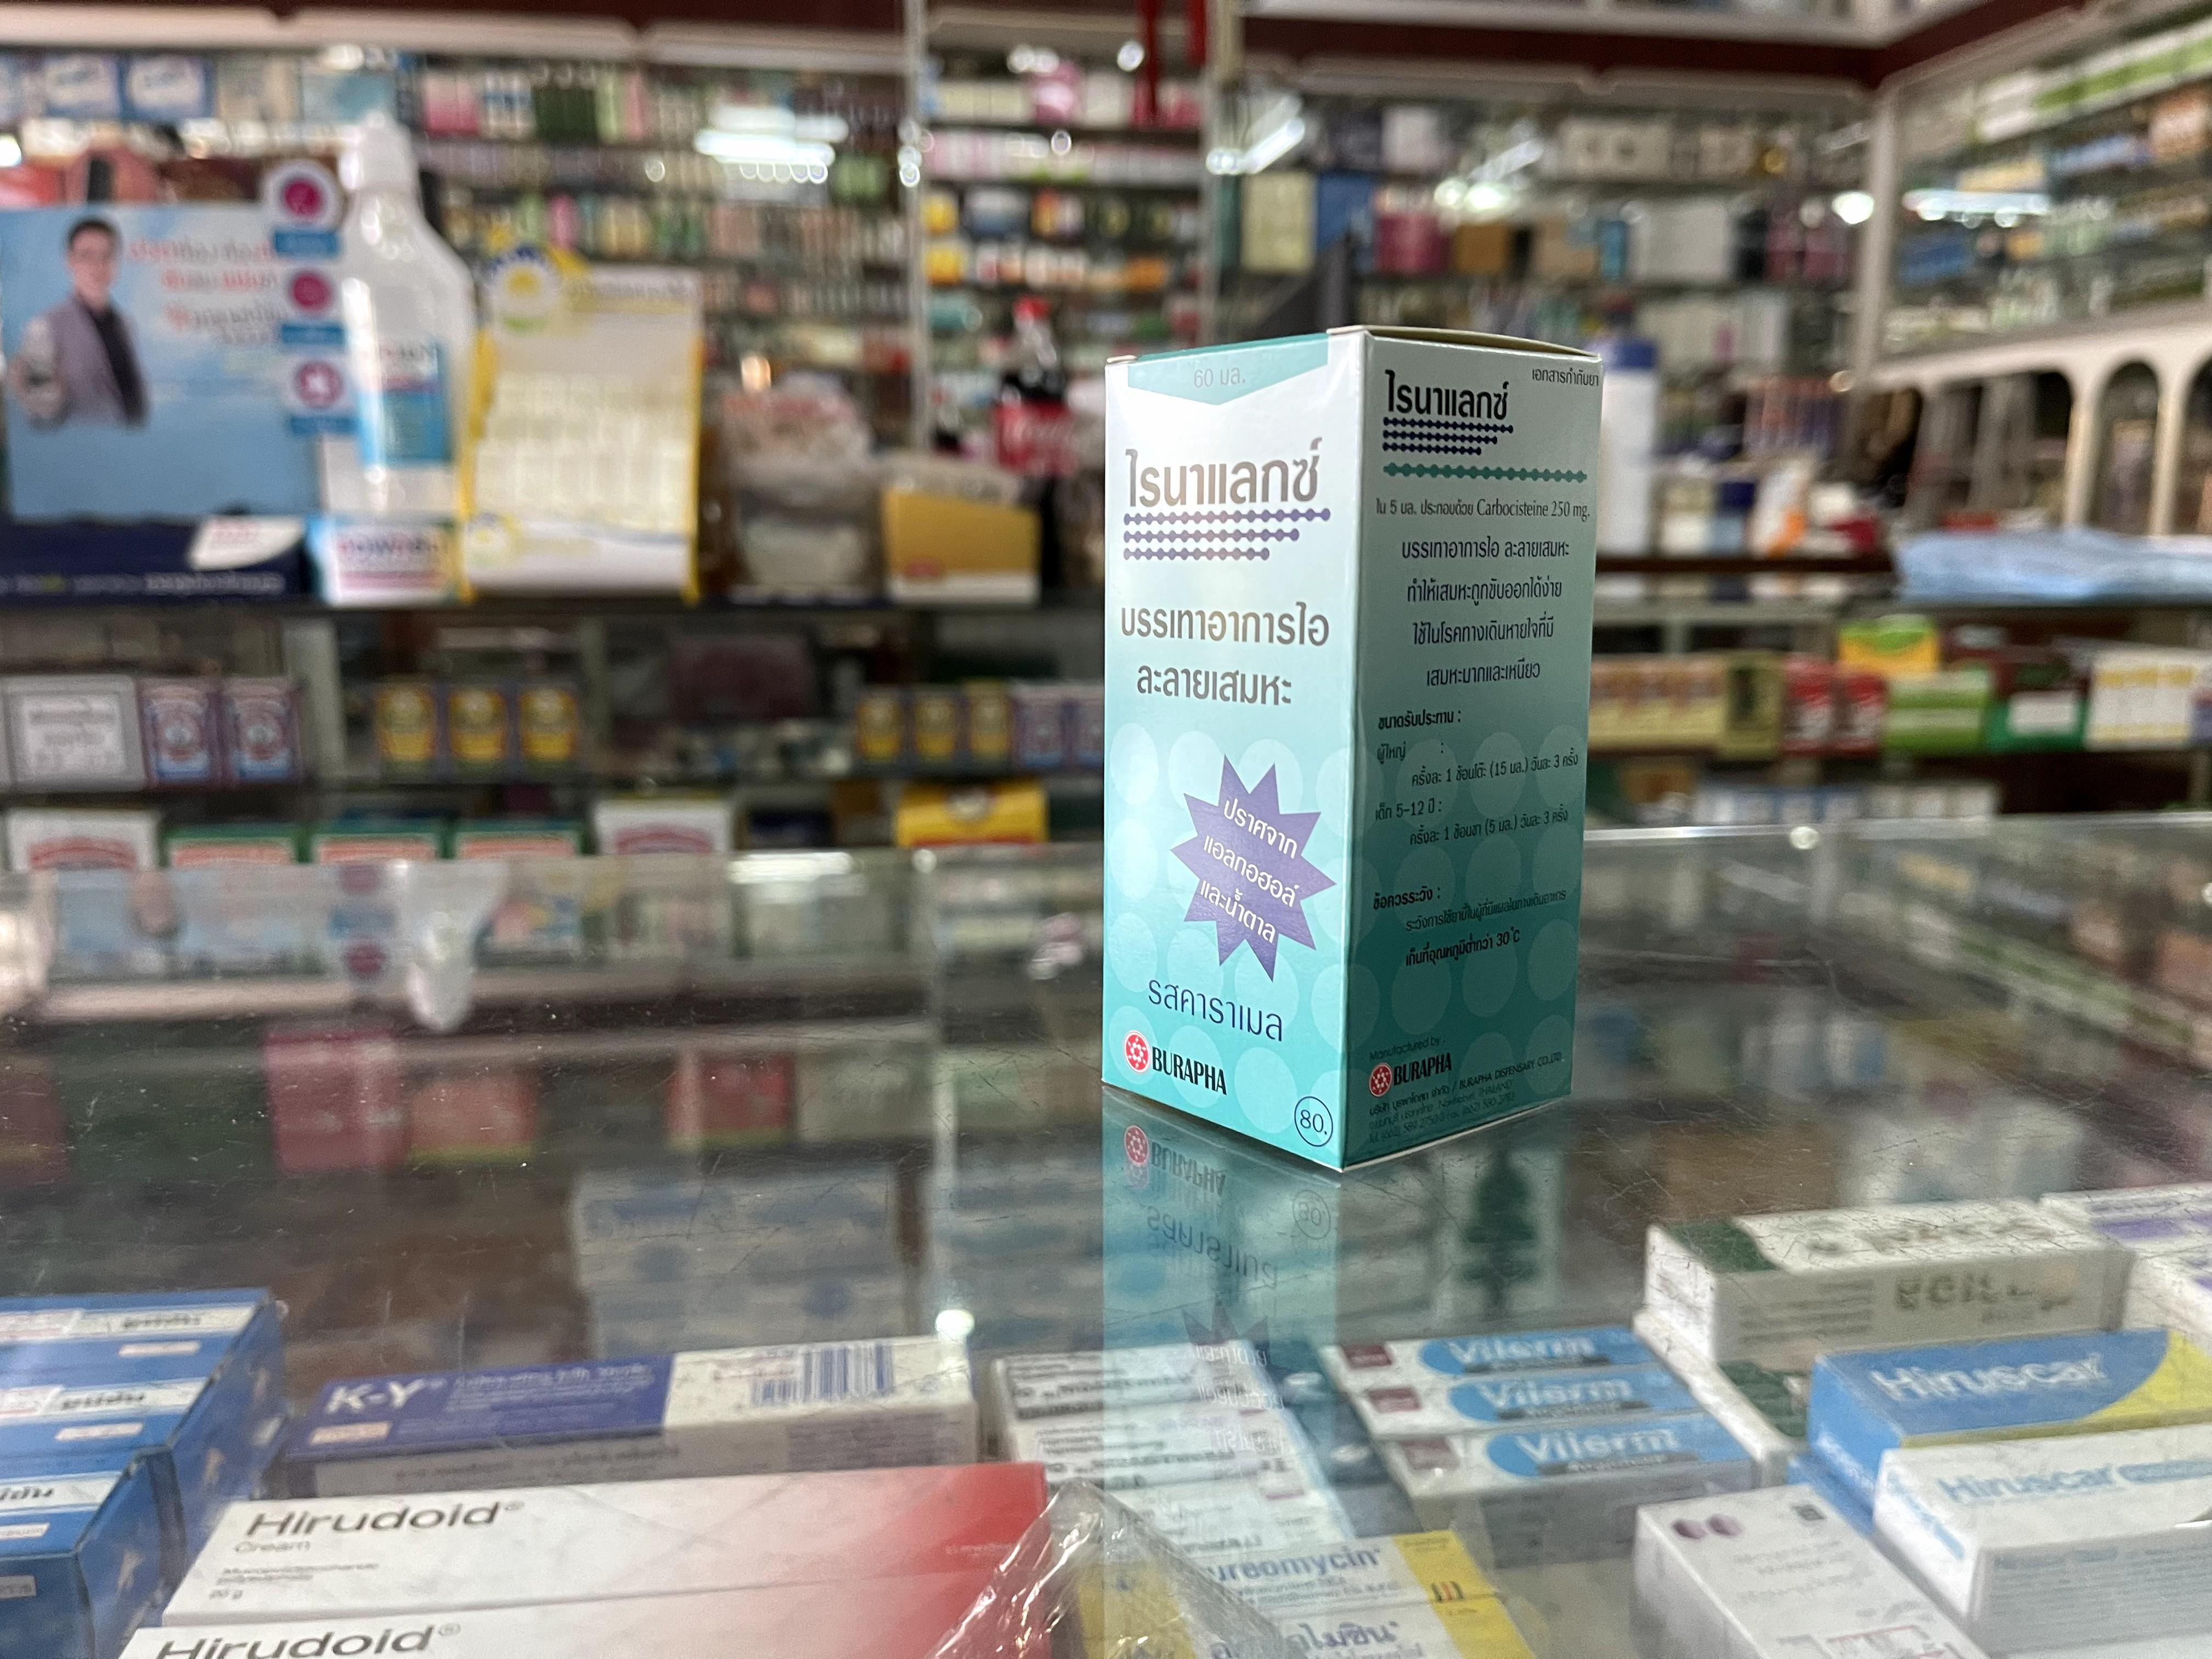Rhinalax: (1103, 324, 1609, 1176)
